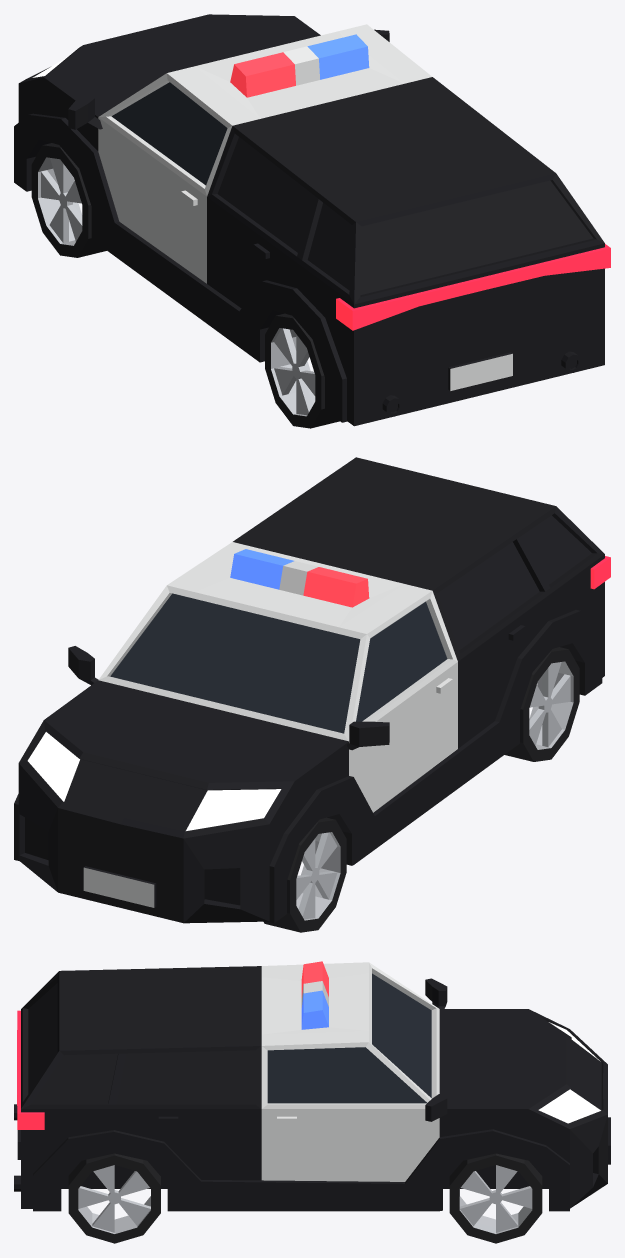
Rendered from police_suv.glb.
3 views of the same model, one above another, from view 1: azimuth 30°, elevation 25°; view 2: azimuth 150°, elevation 25°; view 3: azimuth 270°, elevation 25° (orthographic). The views are drawn at different scales.
Visible parts, largest first — view 1: Body, Bumper_R, Hood, Glass, Wheel_FL, Wheel_RL, Lamp_R, LightBar_Red, LightBar_Blue, Mirror_L; view 2: Body, Hood, Glass, Bumper_F, Wheel_FL, Wheel_RL, Lamp_F, LightBar_Red, LightBar_Blue, Mirror_L, Mirror_R; view 3: Body, Hood, Glass, Wheel_FR, Wheel_RR, Bumper_F, Lamp_F, LightBar_Blue, Lamp_R, LightBar_Red, Mirror_R, Mirror_L.
Boxes of the visible parts, <box> form: Body: <box>14,24,604,425</box>; Bumper_R: <box>320,268,604,426</box>; Hood: <box>27,14,320,116</box>; Glass: <box>111,82,227,185</box>; Wheel_FL: <box>31,143,106,257</box>; Wheel_RL: <box>265,313,339,428</box>; Lamp_R: <box>336,244,610,330</box>; LightBar_Red: <box>230,52,295,97</box>; LightBar_Blue: <box>307,34,369,79</box>; Mirror_L: <box>68,95,102,129</box>; Body: <box>14,457,604,922</box>; Hood: <box>19,676,348,838</box>; Glass: <box>110,593,447,733</box>; Bumper_F: <box>14,763,274,923</box>; Wheel_FL: <box>263,817,346,932</box>; Wheel_RL: <box>504,647,579,761</box>; Lamp_F: <box>27,732,281,830</box>; LightBar_Red: <box>303,567,369,607</box>; LightBar_Blue: <box>230,549,293,589</box>; Mirror_L: <box>347,721,389,750</box>; Mirror_R: <box>68,646,94,685</box>; Body: <box>14,962,610,1211</box>; Hood: <box>431,1008,607,1128</box>; Glass: <box>267,973,431,1103</box>; Wheel_FR: <box>449,1153,542,1243</box>; Wheel_RR: <box>68,1153,160,1243</box>; Bumper_F: <box>570,1114,610,1208</box>; Lamp_F: <box>538,1022,600,1123</box>; LightBar_Blue: <box>301,990,328,1029</box>; Lamp_R: <box>17,1010,44,1129</box>; LightBar_Red: <box>301,961,328,997</box>; Mirror_R: <box>425,1094,447,1121</box>; Mirror_L: <box>425,978,447,1007</box>.
Size of the model in its own units: 2.63 by 1.98 by 5.19.
